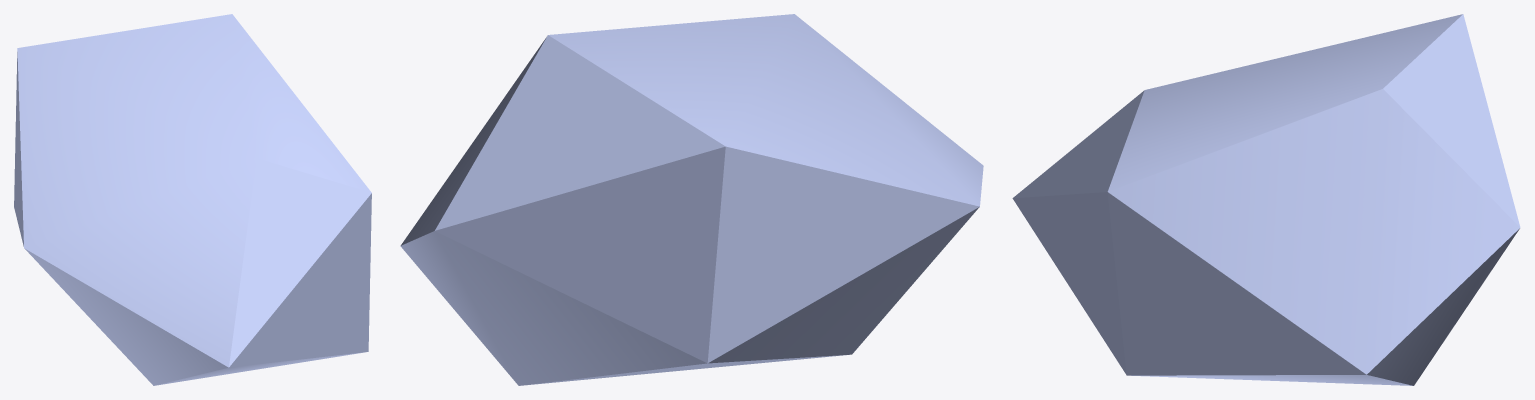
File: SnowPileLightBig.fbx
3 renders of one model, left to right at view 1: azimuth 30°, elevation 25°; view 2: azimuth 150°, elevation 25°; view 3: azimuth 270°, elevation 25°, orthographic. The views are drawn at different scales.
Visible parts, largest first — view 1: SnowPileLightBig; view 2: SnowPileLightBig; view 3: SnowPileLightBig.
Part boxes in pixels (x1,y1,x2,y2): SnowPileLightBig: [14, 14, 371, 385]; SnowPileLightBig: [400, 14, 983, 385]; SnowPileLightBig: [1012, 14, 1520, 385].
Bounding box in the file's own units: 728 × 476 × 739.
